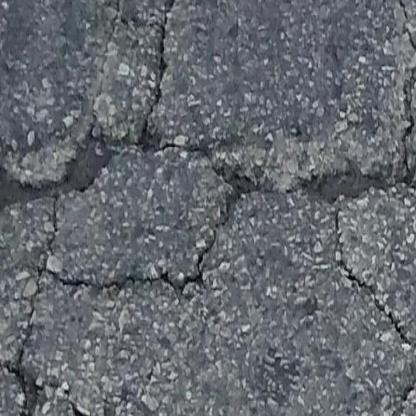Cracks: (0, 0, 286, 298), (287, 0, 416, 416), (0, 285, 110, 416)
